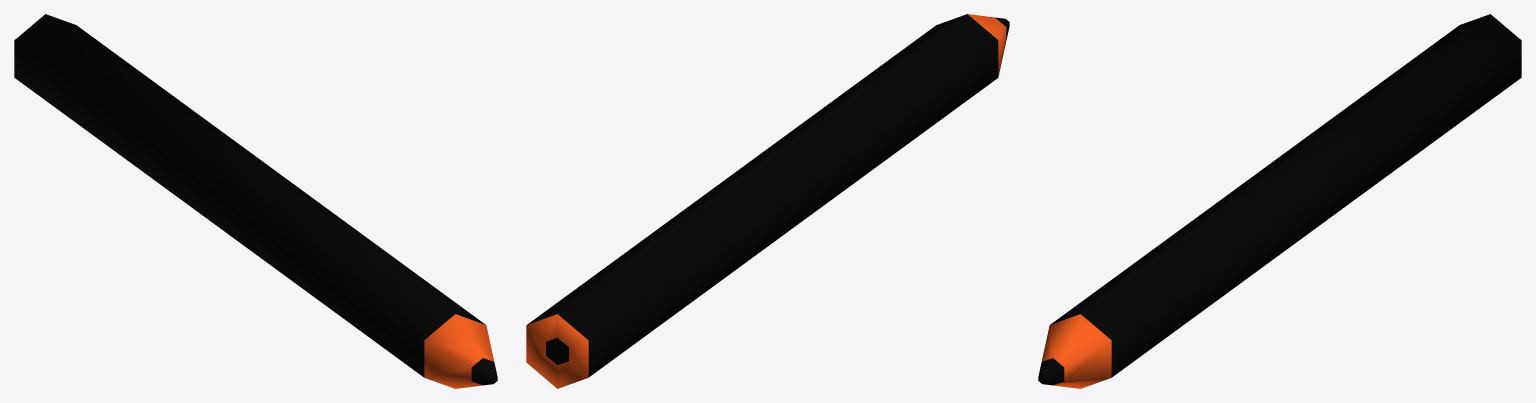
File: qv_pen.fbx
The picture shows the model from 3 angles, left to right: view 1: azimuth 30°, elevation 25°; view 2: azimuth 150°, elevation 25°; view 3: azimuth 330°, elevation 25°; orthographic projection.
Visible parts, largest first — view 1: QvPen; view 2: QvPen; view 3: QvPen.
Part boxes in pixels (x1,y1,x2,y2): QvPen: (14, 14, 497, 388); QvPen: (526, 14, 1009, 388); QvPen: (1038, 14, 1521, 388).
Size of the model in its own units: 0.0348 by 0.0401 by 0.4361.
